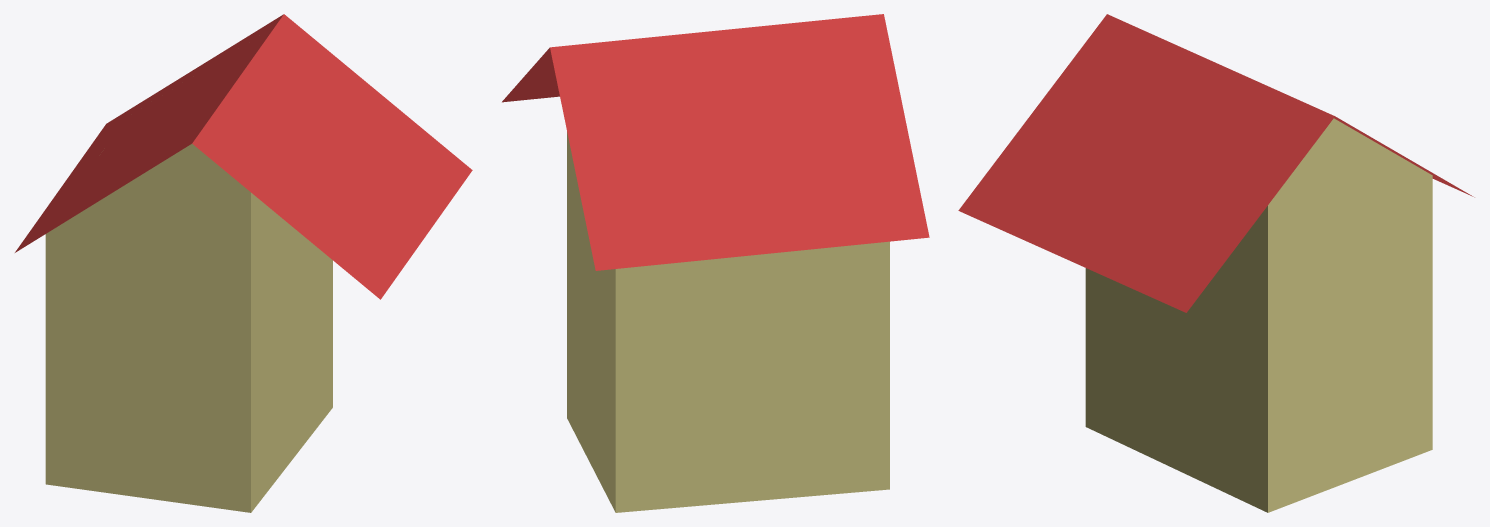
The picture shows the model from 3 angles, left to right: view 1: azimuth 30°, elevation 25°; view 2: azimuth 150°, elevation 25°; view 3: azimuth 270°, elevation 25°; orthographic projection. The views are drawn at different scales.
Size of the model in its own units: 10.14 by 10.19 by 8.44.
